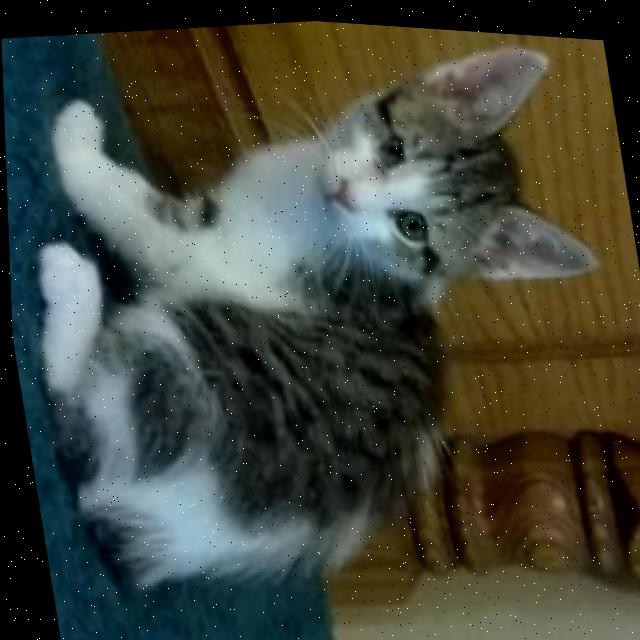American Bobtail: (0, 0, 640, 620)
